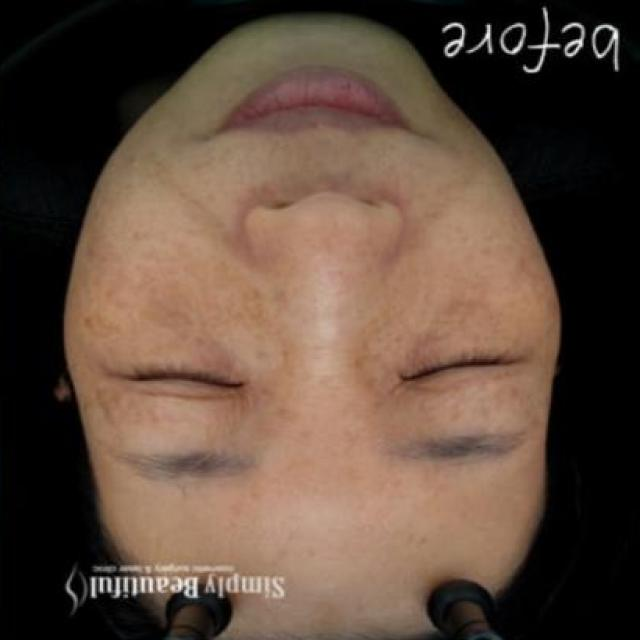melasma: (71, 237, 302, 355), (381, 207, 542, 366)
